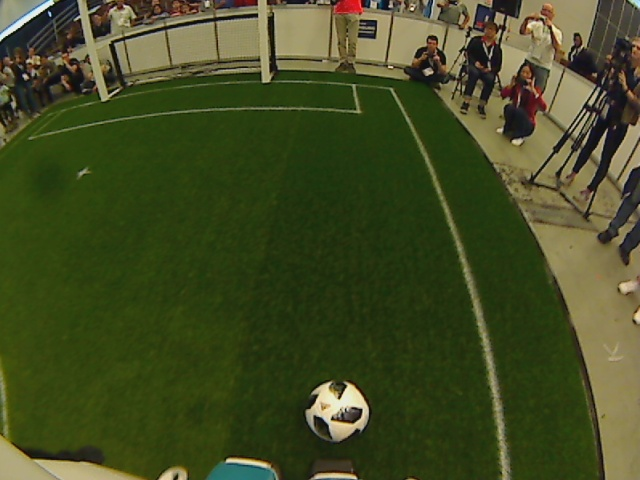ball: (304, 372, 371, 447)
